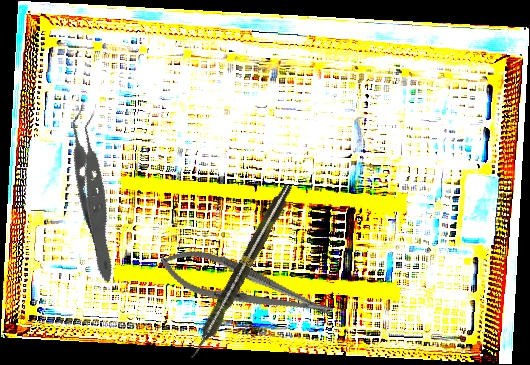Handpiece: (185, 181, 296, 363)
Needle Holder: (154, 238, 339, 335)
Tissue Forceps: (20, 94, 173, 285)
